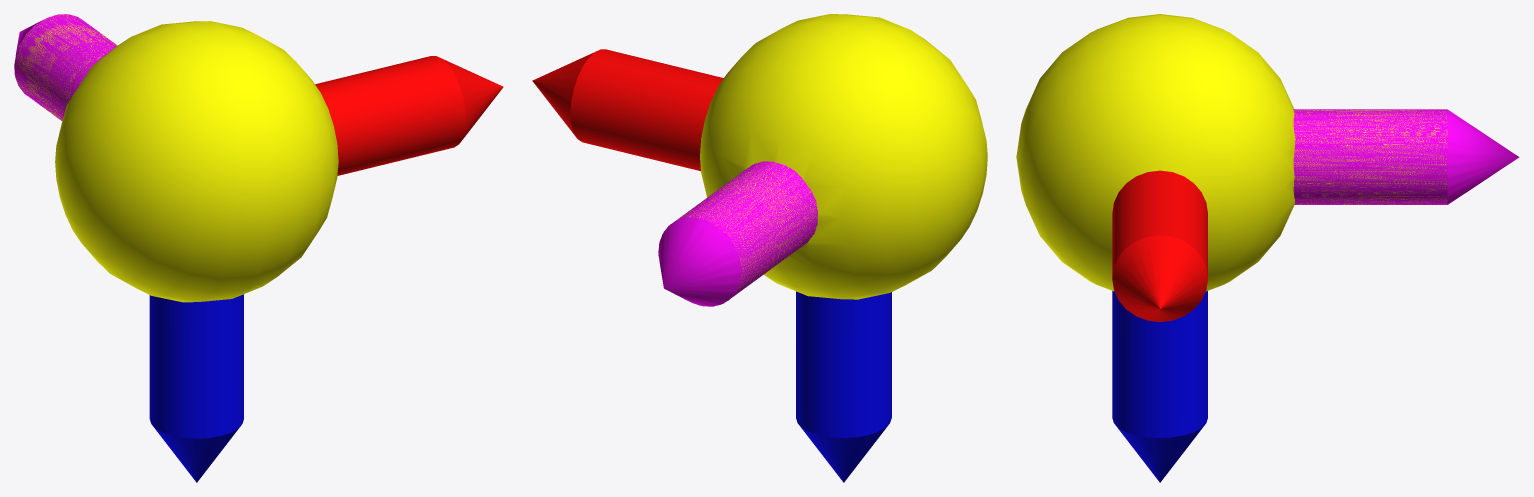
The model's file is ball.dae.
3 views of the same model, side by side, from view 1: azimuth 30°, elevation 25°; view 2: azimuth 150°, elevation 25°; view 3: azimuth 270°, elevation 25° (orthographic).
Visible parts, largest first — view 1: SketchUp (×4); view 2: SketchUp (×5); view 3: SketchUp (×5).
Part boxes in pixels (x1,y1,x2,y2): SketchUp (×4): (14, 14, 503, 482); SketchUp (×5): (532, 14, 987, 482); SketchUp (×5): (1016, 14, 1519, 482).
Bounding box in the file's own units: 42 × 42 × 42.
